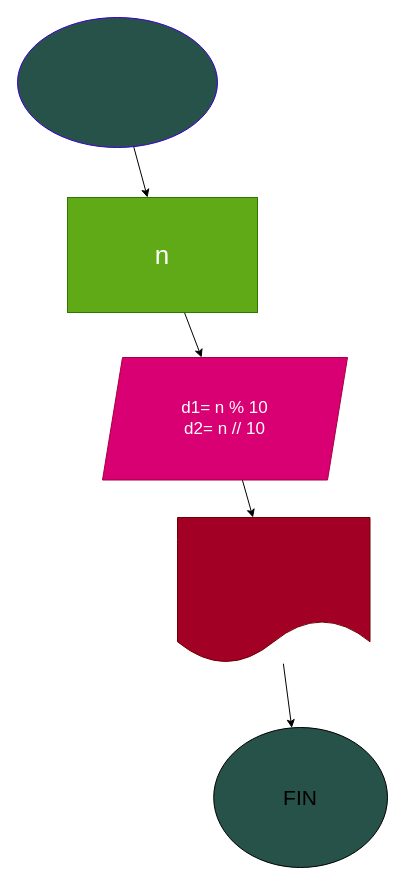
The diagram is 405 pixels wide and 885 high, and some of its shapes have lost their labels. The shapes that lost their labels are listed below. From the top down, each one's centre as x and y in pixels, then its label:
pixel 117 82: INICIO
pixel 273 590: ni
